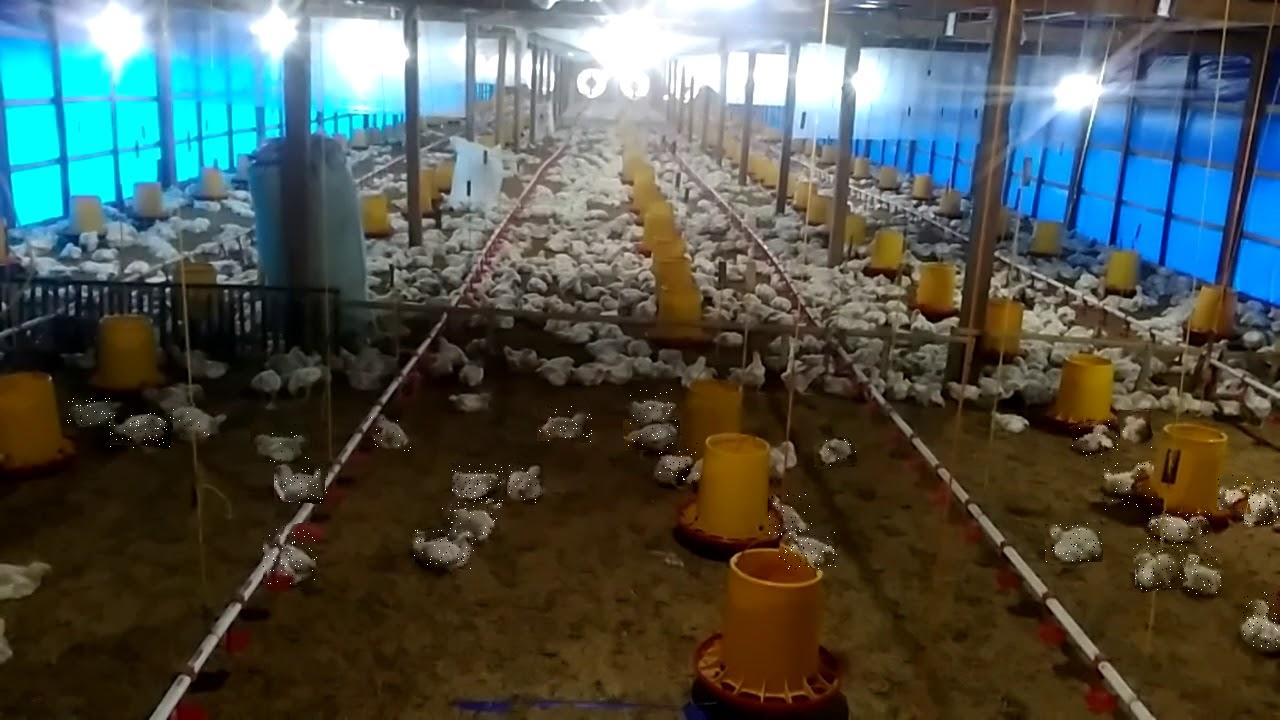chicken: (264, 524, 318, 585), (413, 526, 476, 569), (1103, 463, 1158, 511), (249, 422, 310, 464), (1133, 543, 1186, 591), (1148, 511, 1215, 548), (453, 463, 505, 509), (1046, 523, 1105, 563), (443, 500, 499, 540), (780, 532, 838, 570), (275, 462, 328, 503), (111, 414, 173, 449), (168, 403, 227, 439), (1243, 592, 1280, 649), (1071, 421, 1121, 463), (538, 405, 593, 442), (769, 493, 813, 536), (624, 420, 682, 450), (1242, 480, 1280, 525), (628, 389, 677, 423), (659, 442, 699, 483), (370, 414, 413, 451), (508, 462, 546, 503), (1184, 556, 1221, 597), (813, 437, 856, 469), (1118, 410, 1153, 449), (68, 398, 115, 426), (1218, 476, 1252, 513)
